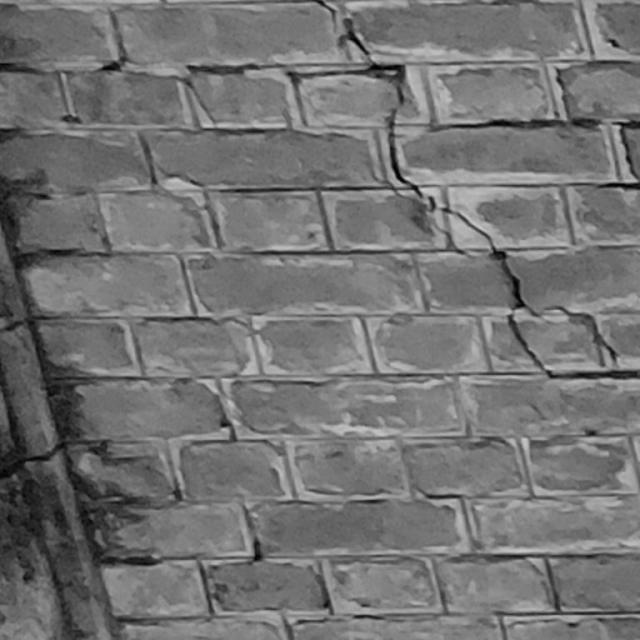crack: (317, 1, 640, 380)
